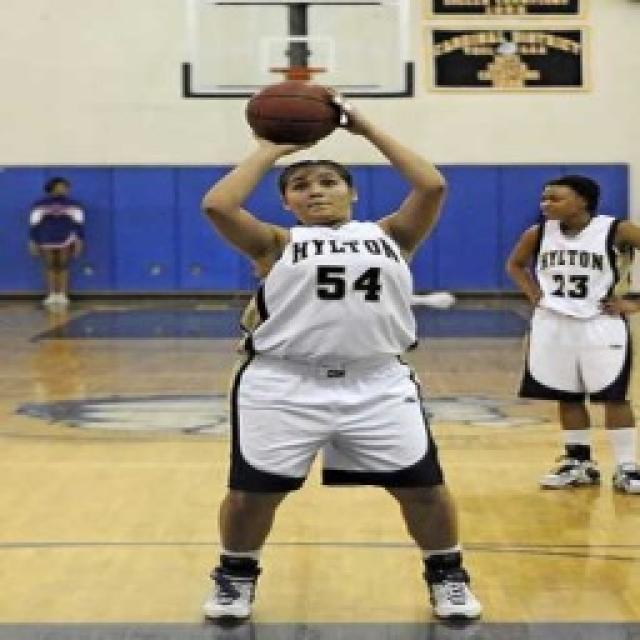rim: (241, 72, 358, 154)
